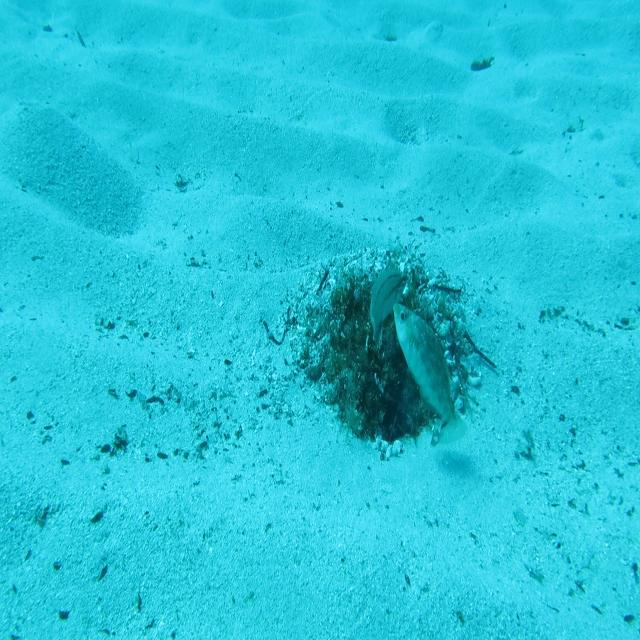GB: (392, 300, 471, 446)
core_nest: (356, 294, 407, 356)
female: (370, 263, 410, 346)
nest: (274, 222, 490, 476)
vegetation: (468, 55, 497, 76)
